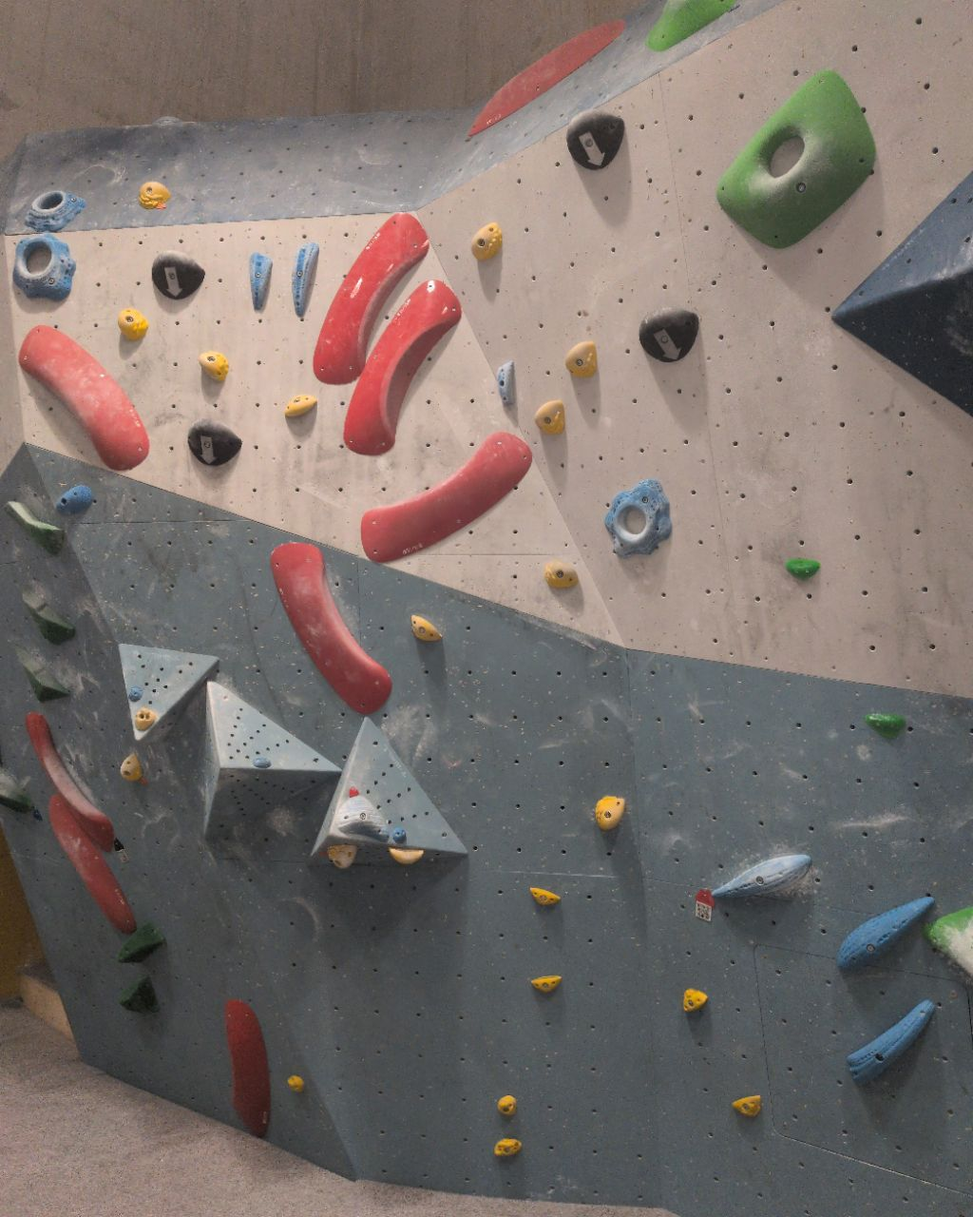hold: (716, 70, 875, 247), (361, 432, 532, 562), (271, 543, 390, 715), (344, 280, 460, 454), (314, 215, 429, 383), (19, 325, 149, 471), (468, 20, 624, 137), (48, 795, 136, 935), (28, 712, 113, 850), (847, 1000, 935, 1083), (836, 898, 933, 970), (225, 1000, 270, 1137), (604, 479, 670, 557), (713, 854, 811, 898), (13, 233, 75, 300), (566, 111, 624, 170), (926, 907, 972, 980), (639, 309, 698, 363), (23, 582, 74, 644), (7, 502, 64, 553), (17, 648, 68, 702), (152, 252, 204, 300), (187, 421, 241, 467), (335, 796, 390, 840), (27, 191, 85, 231), (153, 254, 203, 299), (292, 243, 317, 320), (120, 923, 164, 962), (0, 765, 33, 812), (249, 252, 272, 310), (121, 977, 158, 1013), (564, 340, 597, 377), (55, 484, 92, 516), (471, 222, 502, 260), (534, 400, 565, 435), (865, 712, 906, 738), (595, 796, 624, 831), (544, 560, 579, 589), (118, 308, 148, 340), (199, 351, 228, 381), (497, 360, 515, 407), (411, 614, 441, 642), (139, 182, 170, 209), (785, 559, 819, 580), (285, 395, 316, 418), (121, 753, 143, 782), (328, 844, 354, 868), (529, 886, 560, 906), (390, 847, 424, 865), (494, 1137, 521, 1158), (533, 975, 562, 994), (135, 706, 157, 731), (497, 1095, 517, 1117), (390, 826, 406, 846), (287, 1074, 303, 1091), (252, 755, 269, 769), (128, 686, 143, 701)
volume: (831, 172, 972, 419), (306, 715, 472, 869), (200, 681, 345, 846), (117, 640, 225, 747)
